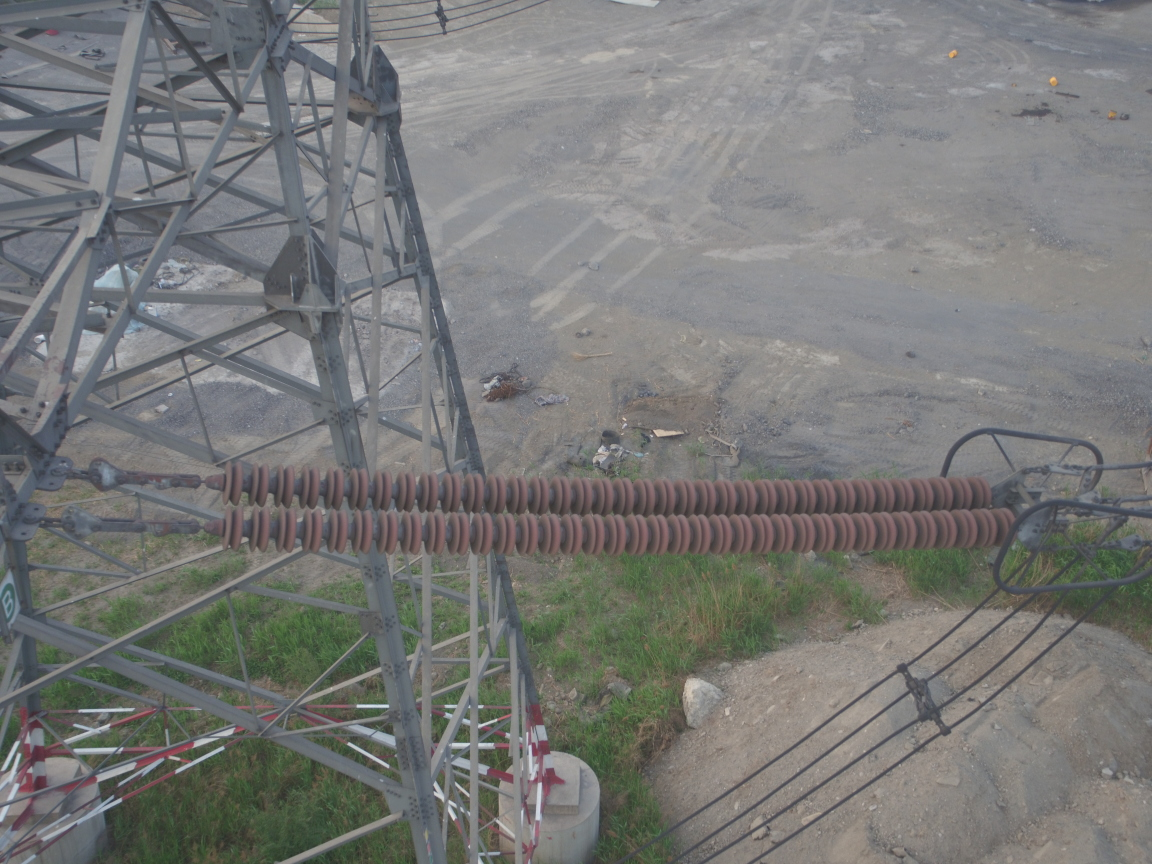insulator: (148, 458, 1035, 556)
